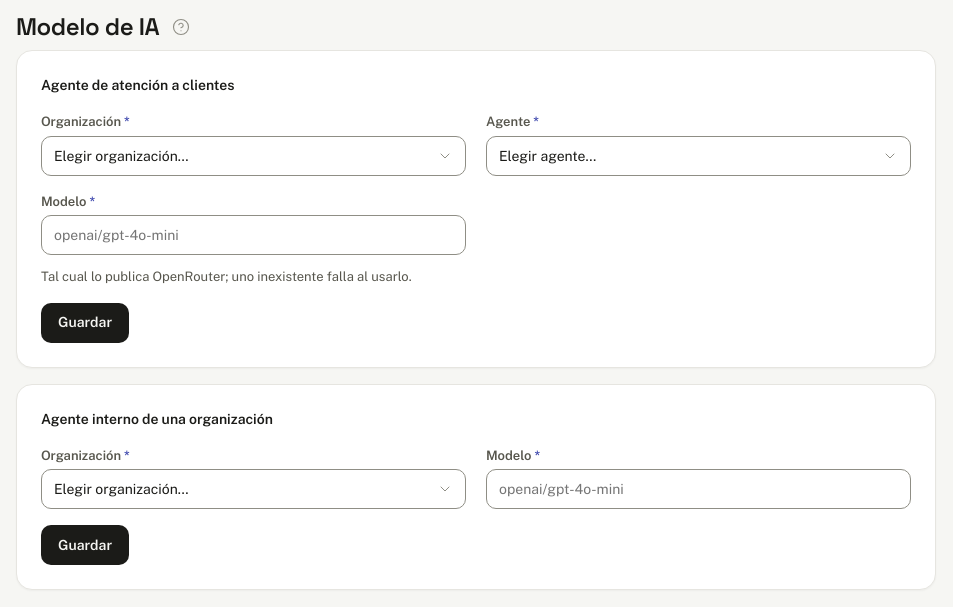
it: AgentModelPage (B-05) › una organización sin agentes lo dice, sin selector de agente
The image size is (953, 607).
Click the dropdown labelled "Organización" below "Agente de atención a clientes" at (254, 156), box [41, 136, 466, 176]
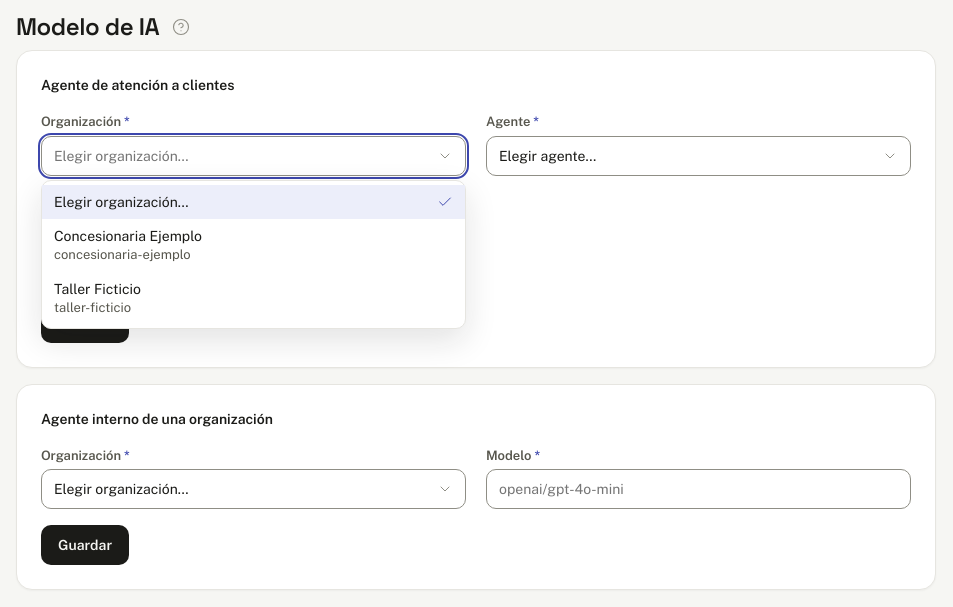
Click the option "Taller Ficticio taller-ficticio" at (97, 298), box [54, 281, 141, 315]
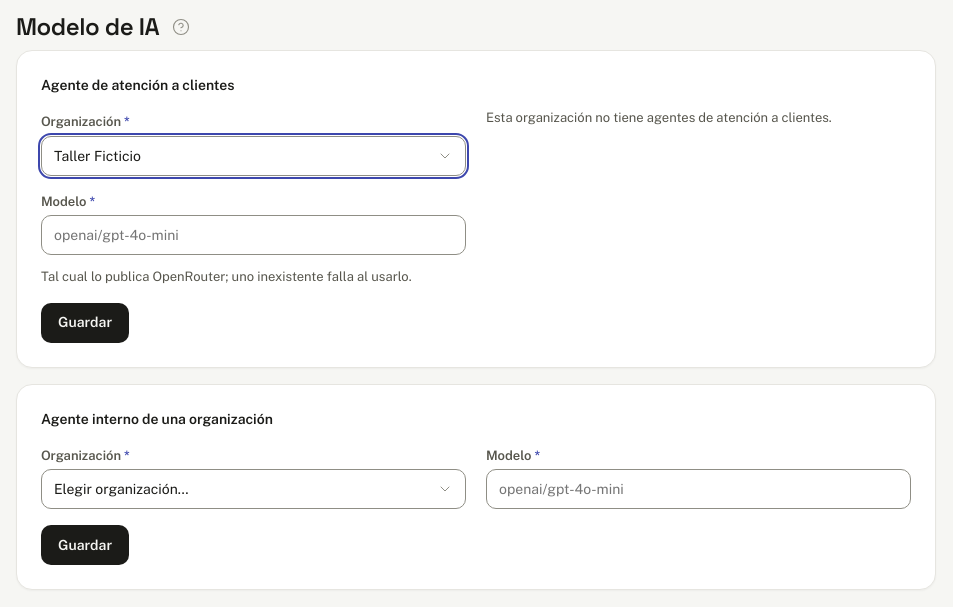
Expected: the text "Esta organización no tiene agentes de atención a clientes." is shown, [486, 110, 832, 125]
